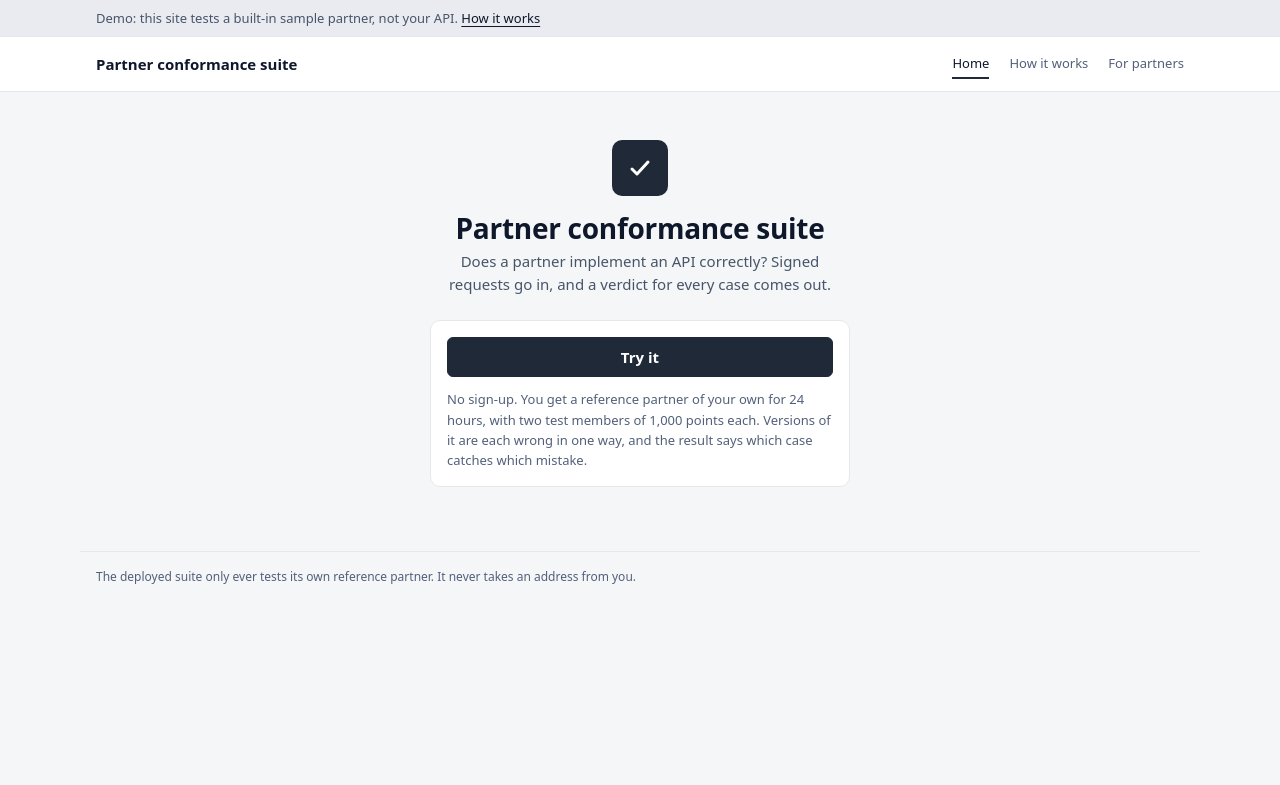
Test: the page between its answers › shows the signing secret when asked, once
The image size is (1280, 785).
Click the button "Try it" at (640, 357), box [447, 337, 833, 377]
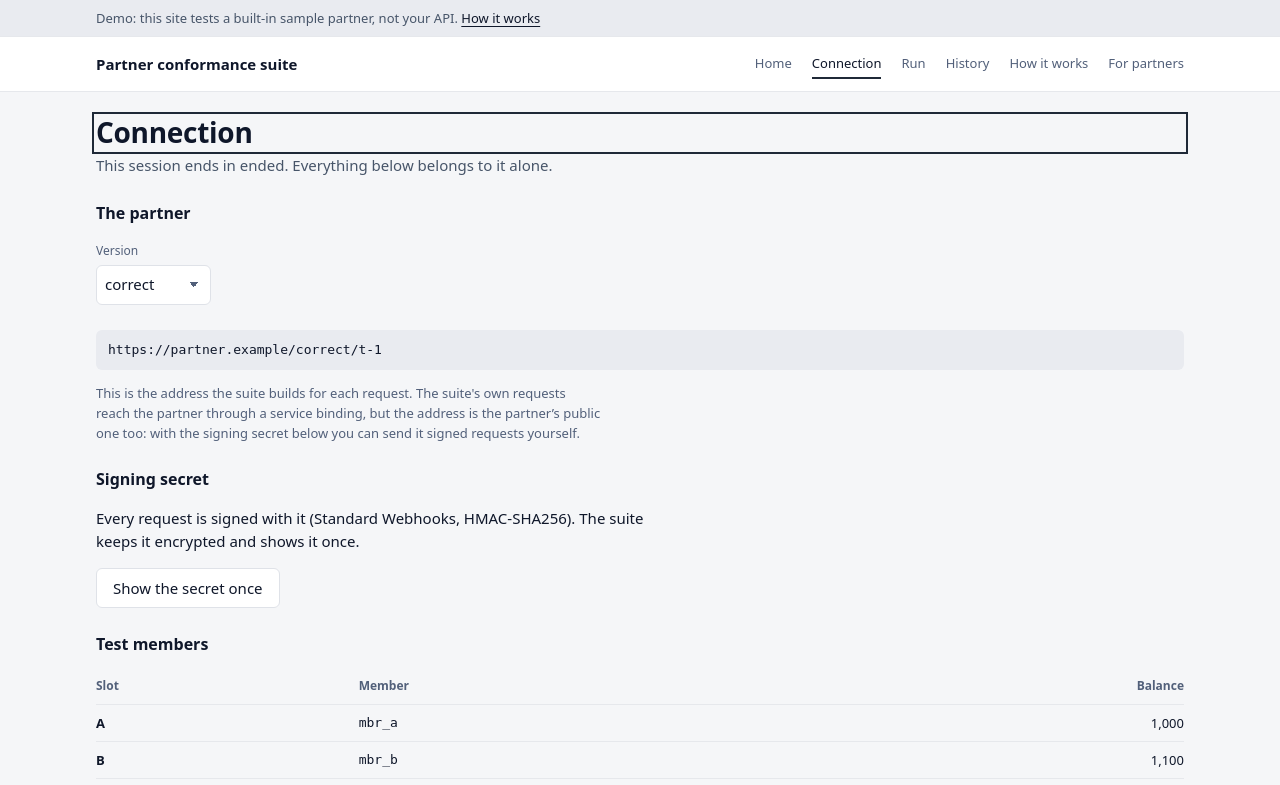
expect the heading "Connection" is shown: met, box [96, 113, 252, 151]
Click the button "Show the secret once" at (188, 588), box [96, 568, 280, 608]
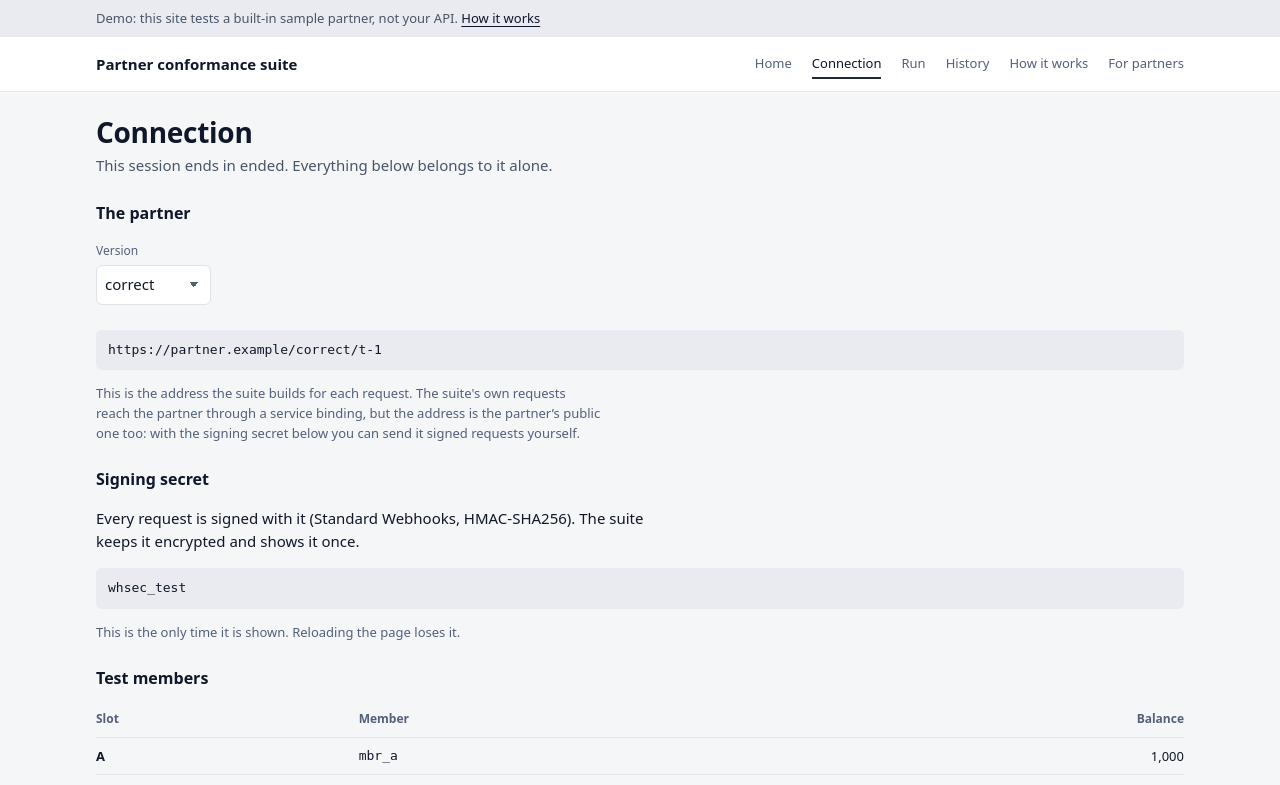
expect the text named "Signing secret" reads "whsec_test": met, box [108, 580, 186, 595]
expect the button "Show the secret once" is gone: met
